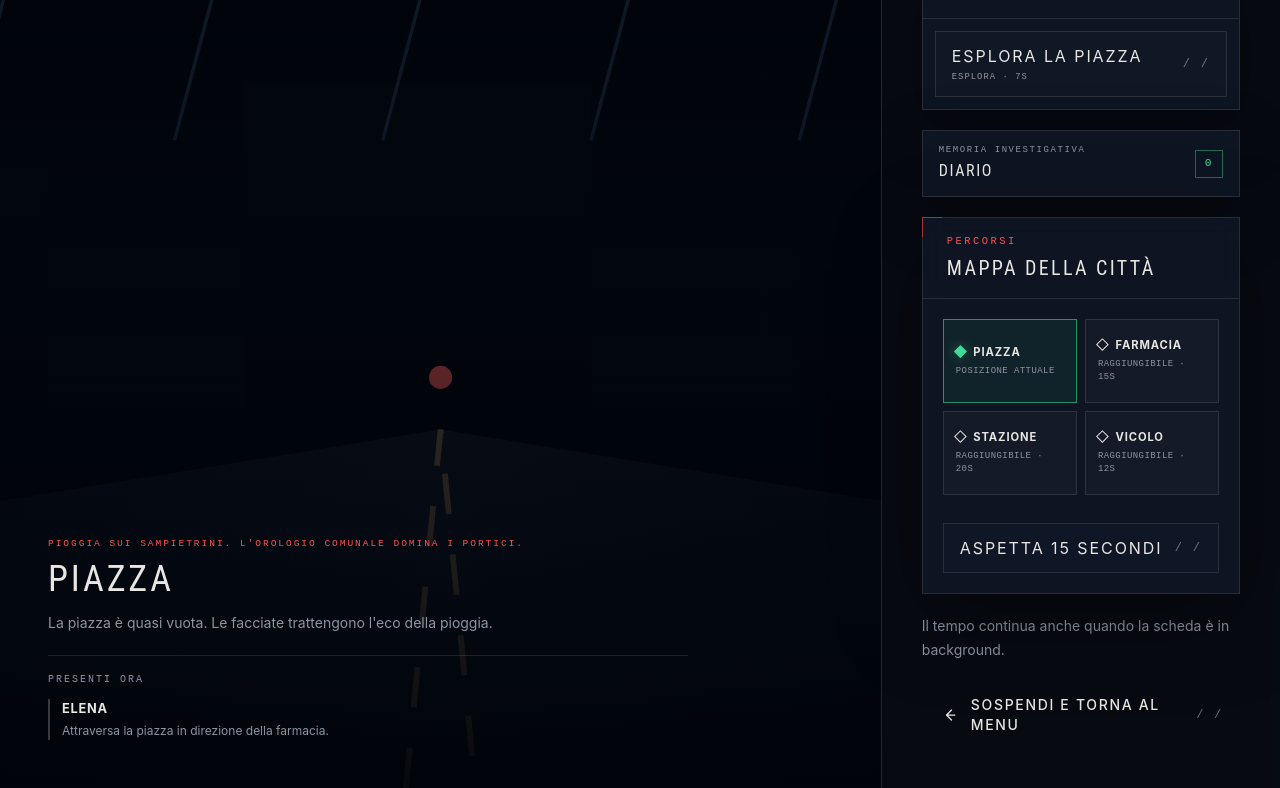
GameplaySession › visualizza l'unico clock e applica azioni e navigazione
The width and height of the screenshot is (1280, 788).
(page scrolled)
Click the button "Aspetta 15 secondi / /". click: click(1081, 548)
box: top-left (943, 523), bottom-right (1219, 573)
(page scrolled)
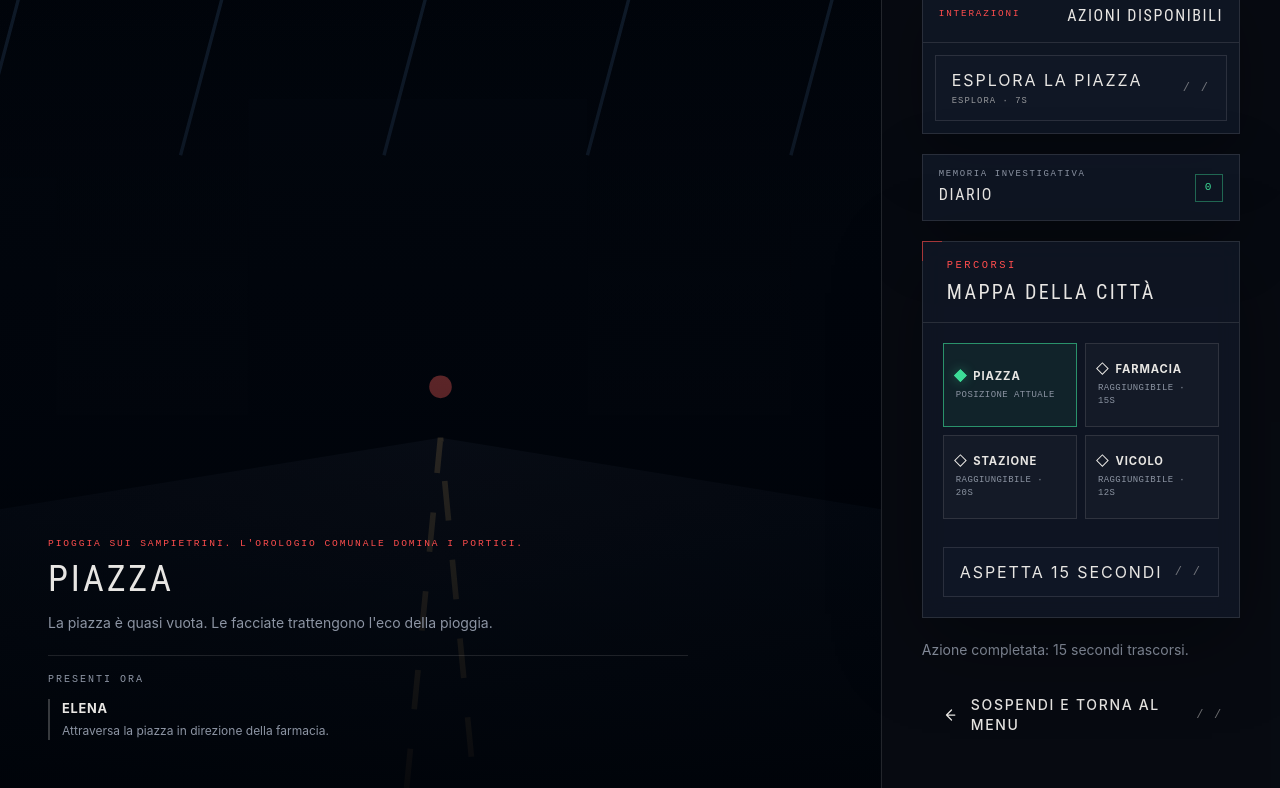
Click the button named "FarmaciaRaggiungibile · 15s". click: click(1152, 385)
box: top-left (1085, 343), bottom-right (1219, 427)
(page scrolled)
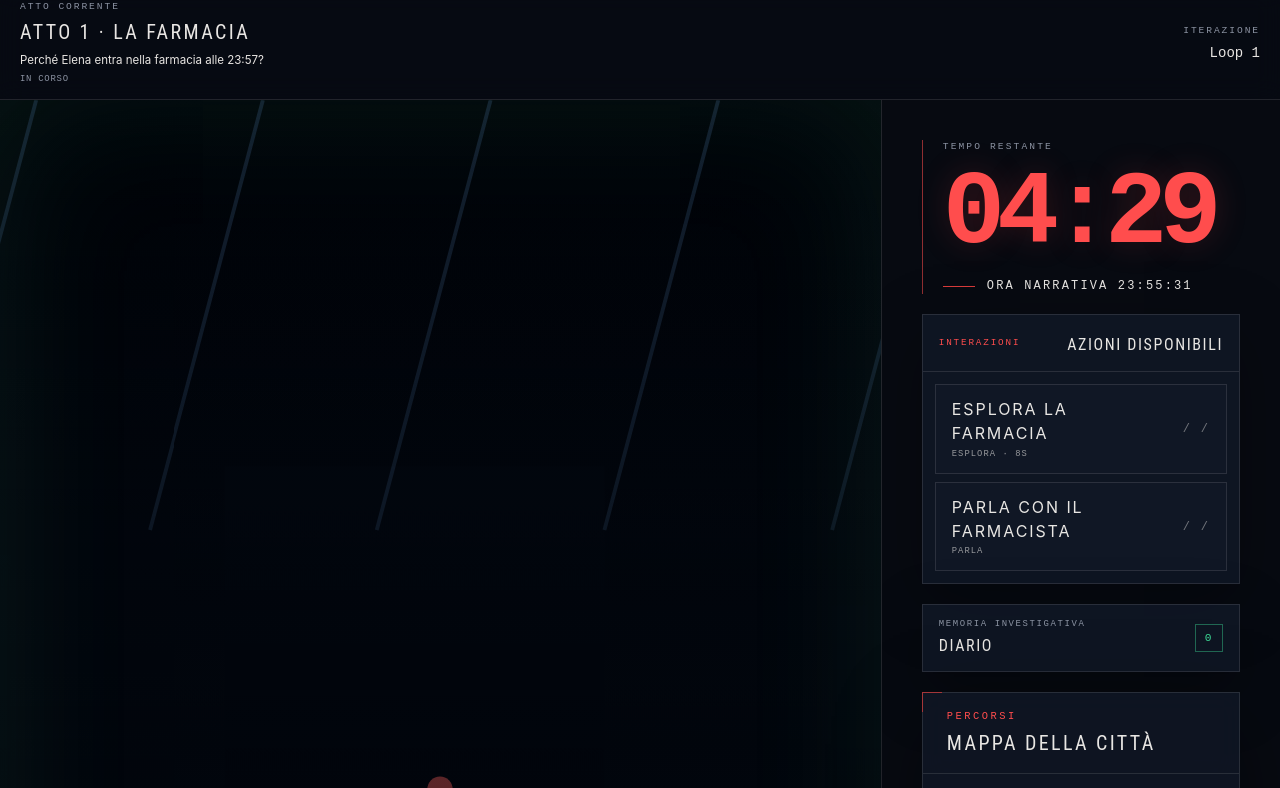
Expected: the text "04:29" is shown, top-left (943, 162), bottom-right (1240, 266)
